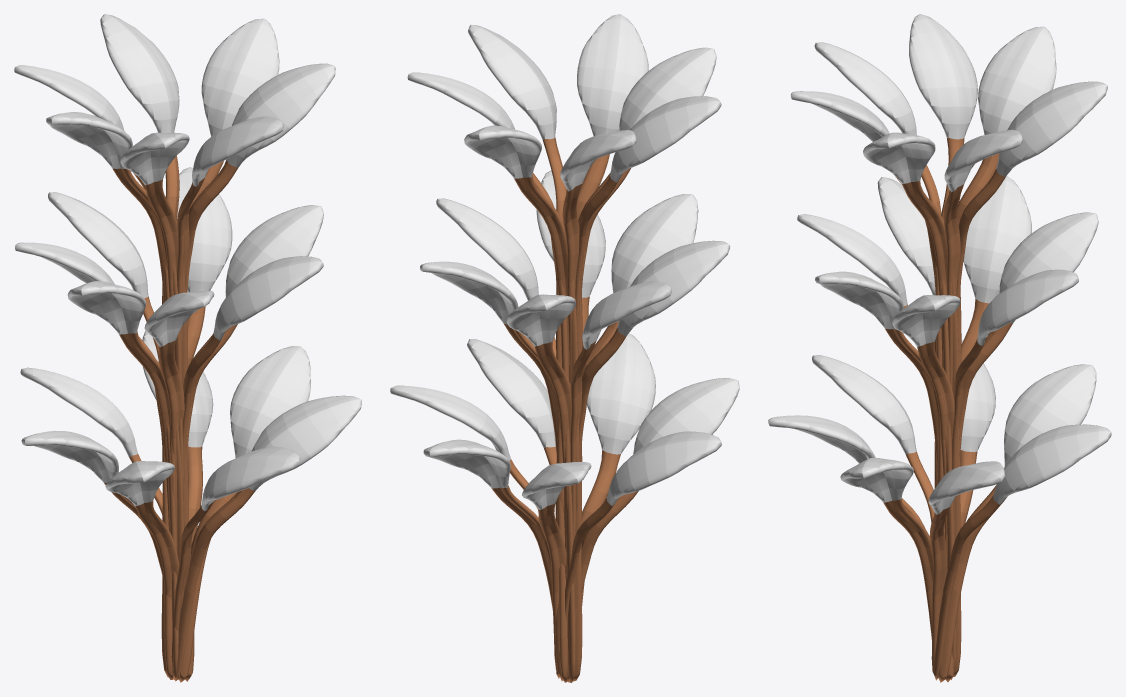
File: Planta_Baja.fbx
The picture shows the model from 3 angles, left to right: view 1: azimuth 30°, elevation 25°; view 2: azimuth 150°, elevation 25°; view 3: azimuth 270°, elevation 25°; orthographic projection.
Visible parts, largest first — view 1: Sphere.024; view 2: Sphere.024; view 3: Sphere.024.
Part boxes in pixels (x1=…): Sphere.024: x1=14, y1=14, x2=361, y2=682; Sphere.024: x1=390, y1=14, x2=739, y2=682; Sphere.024: x1=768, y1=14, x2=1111, y2=682.
Bounding box in the file's own units: 2317 × 4386 × 2283.
